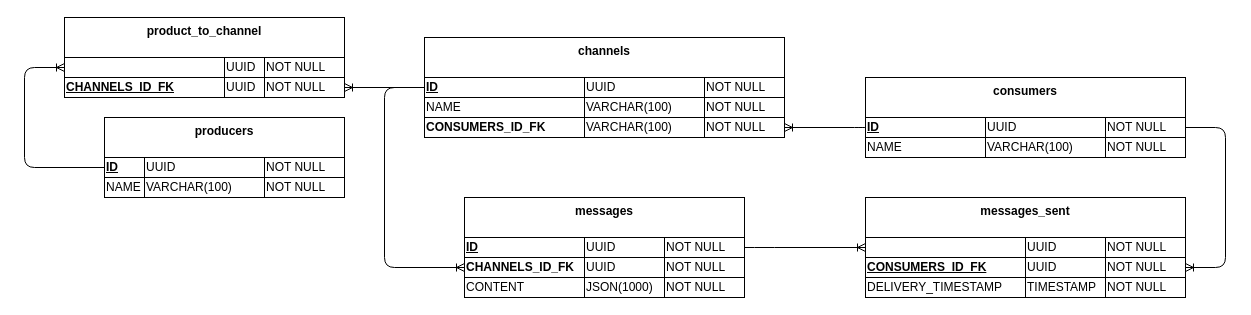
The diagram is 1251 pixels wide and 315 high, and some of its shapes have lost their labels. Each missing label, with the centre of its shape:
MESSAGES_ID_FK: point 945,247
PRODUCERS_ID_FK: point 144,67
